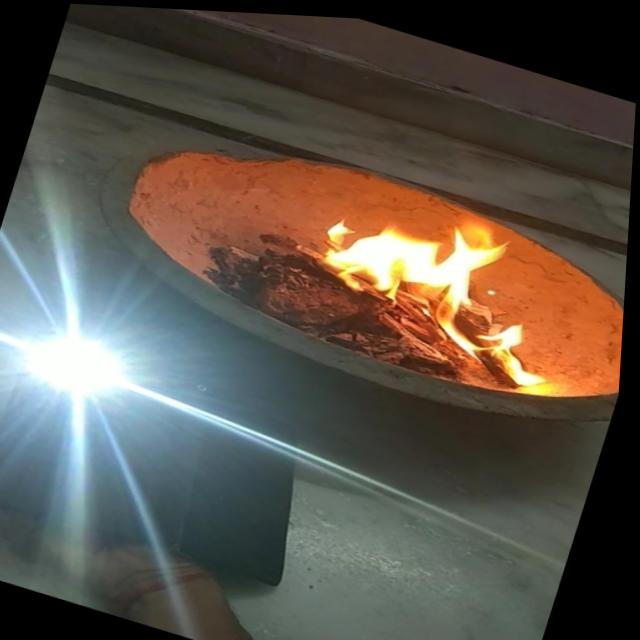fire: (281, 164, 592, 390)
